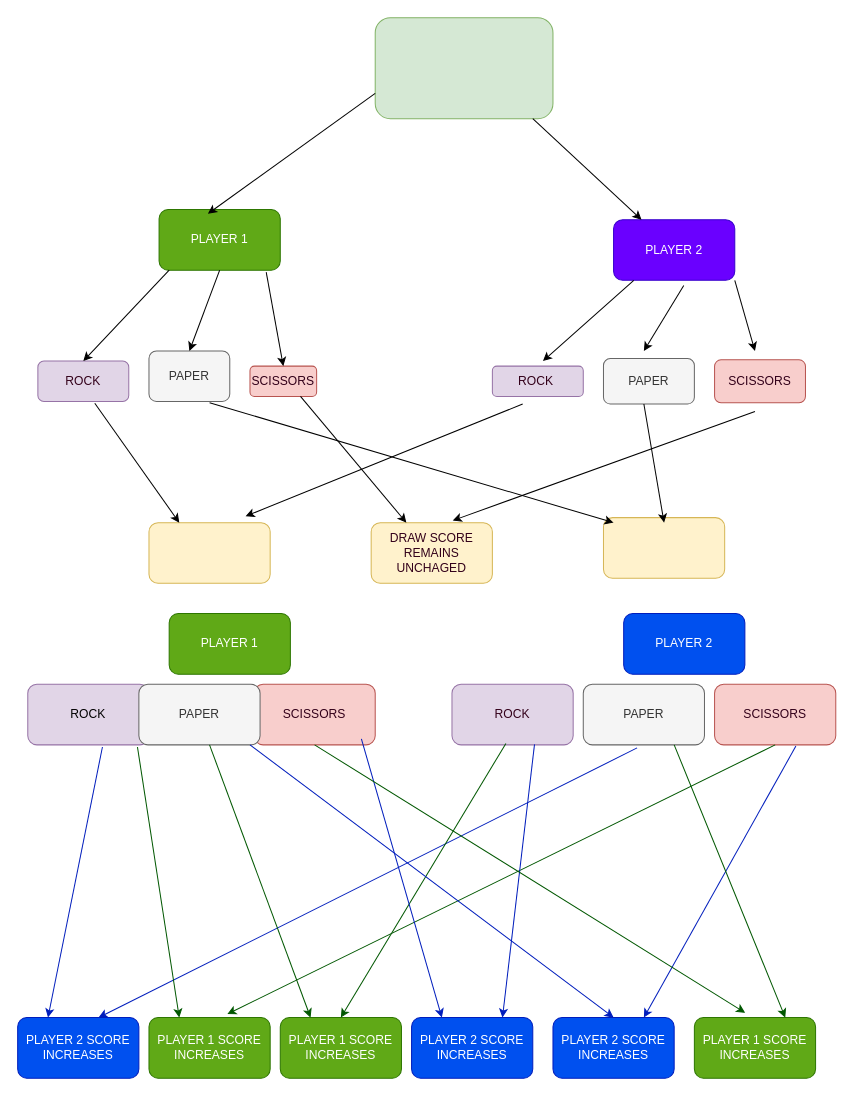
The diagram is 853 pixels wide and 1096 high, and some of its shapes have lost their labels. Each missing label, with the centre of its shape:
"DRAW SCORE REMAIND UNCHANGED" belongs at (663,547).
"DRAW SCORE REMAINS UNCHANGED" belongs at (209,552).
"GAME - ROCK, PAPER SCISSORS" belongs at (463,68).
